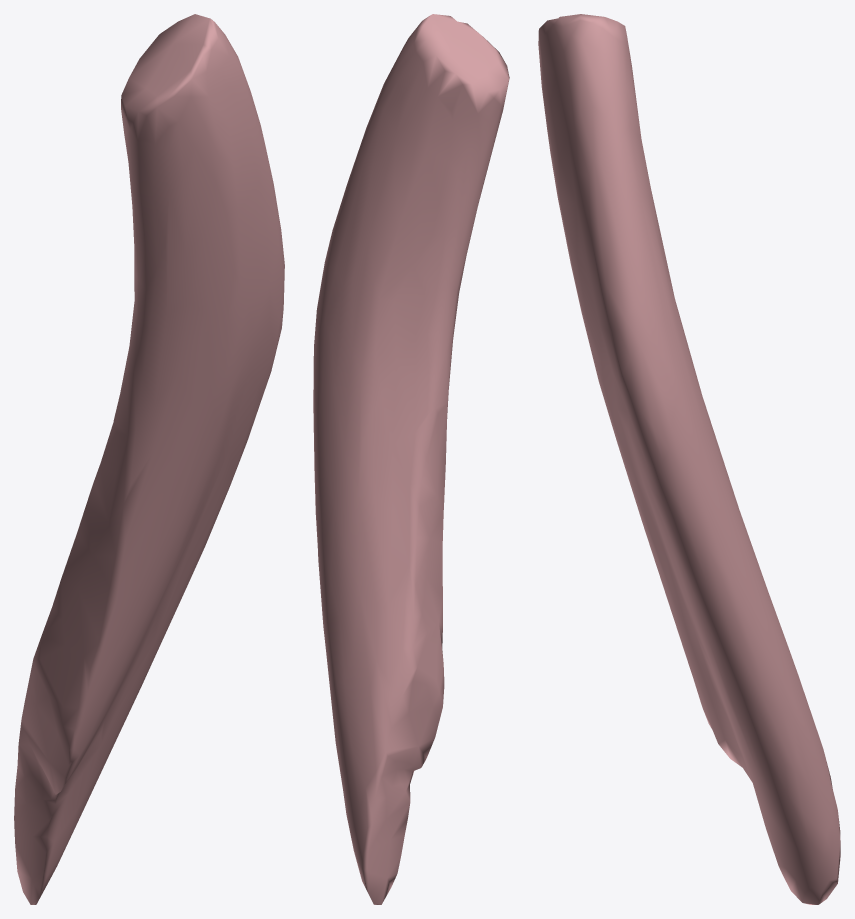
File: fma22782_mm1306.glb
The picture shows the model from 3 angles, left to right: view 1: azimuth 30°, elevation 25°; view 2: azimuth 150°, elevation 25°; view 3: azimuth 270°, elevation 25°; orthographic projection. The views are drawn at different scales.
Visible parts, largest first — view 1: FMA22782_MM1306; view 2: FMA22782_MM1306; view 3: FMA22782_MM1306.
Part boxes in pixels (x1,y1,x2,y2): FMA22782_MM1306: [14, 14, 284, 904]; FMA22782_MM1306: [313, 14, 509, 904]; FMA22782_MM1306: [538, 14, 840, 904].
Bounding box in the file's own units: 0.0129 × 0.0641 × 0.0191.
